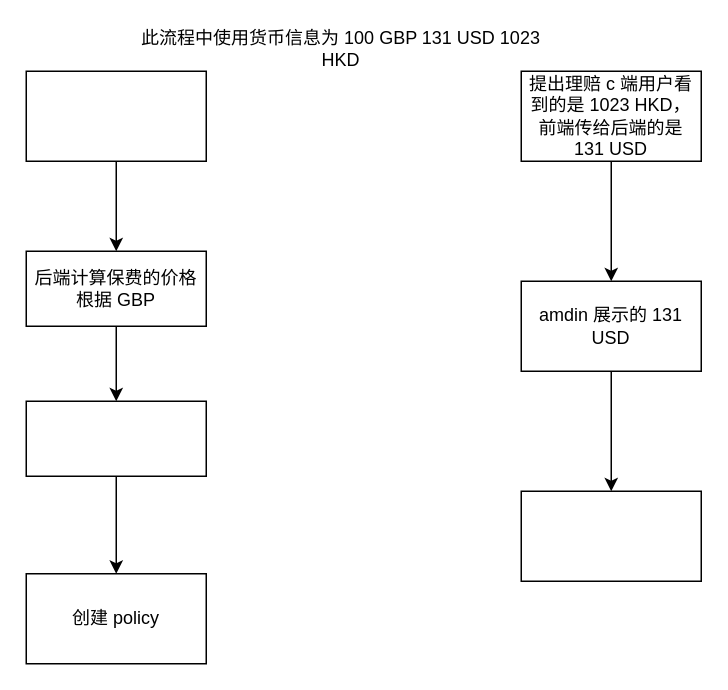
This 728x690 diagram has some shape labels left out. Here are the shapes that lost their labels. From the top down, the box of each, then its label:
(25, 70, 206, 161): 前端下单 商品信息 100 GBP 1023 HKD
(25, 400, 206, 476): 转换商品金额 100 GBP => 131 USD
